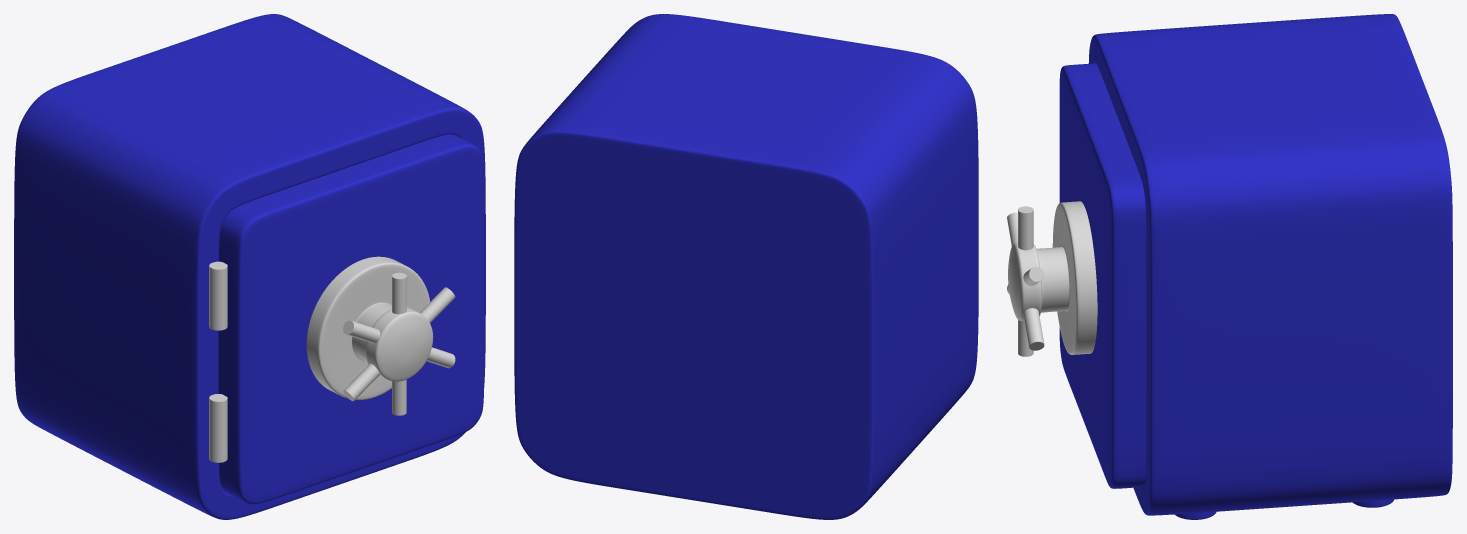
Rendered from locker.fbx.
The picture shows the model from 3 angles, left to right: view 1: azimuth 30°, elevation 25°; view 2: azimuth 150°, elevation 25°; view 3: azimuth 270°, elevation 25°; orthographic projection. The views are drawn at different scales.
Visible parts, largest first — view 1: Locker; view 2: Locker; view 3: Locker.
Boxes of the visible parts, x1,y1,x2,y2 form: Locker: (14,14,485,519); Locker: (514,14,978,519); Locker: (1007,14,1452,519).
Size of the model in its own units: 195 by 184 by 200.
